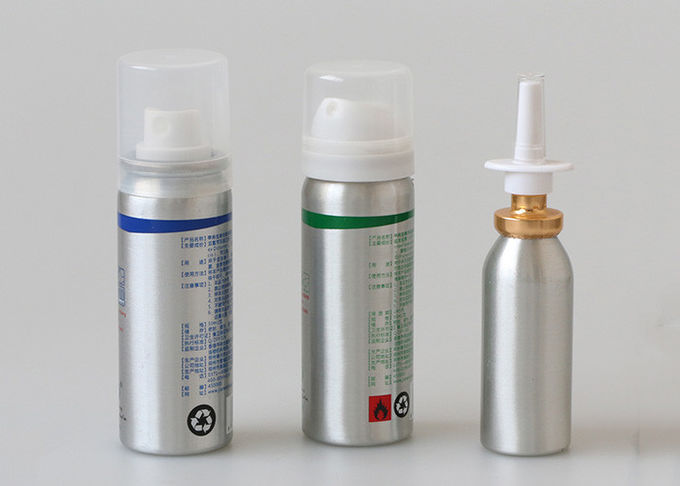Aerosol_cans: (112, 47, 237, 456), (295, 57, 418, 449), (477, 207, 577, 460)
